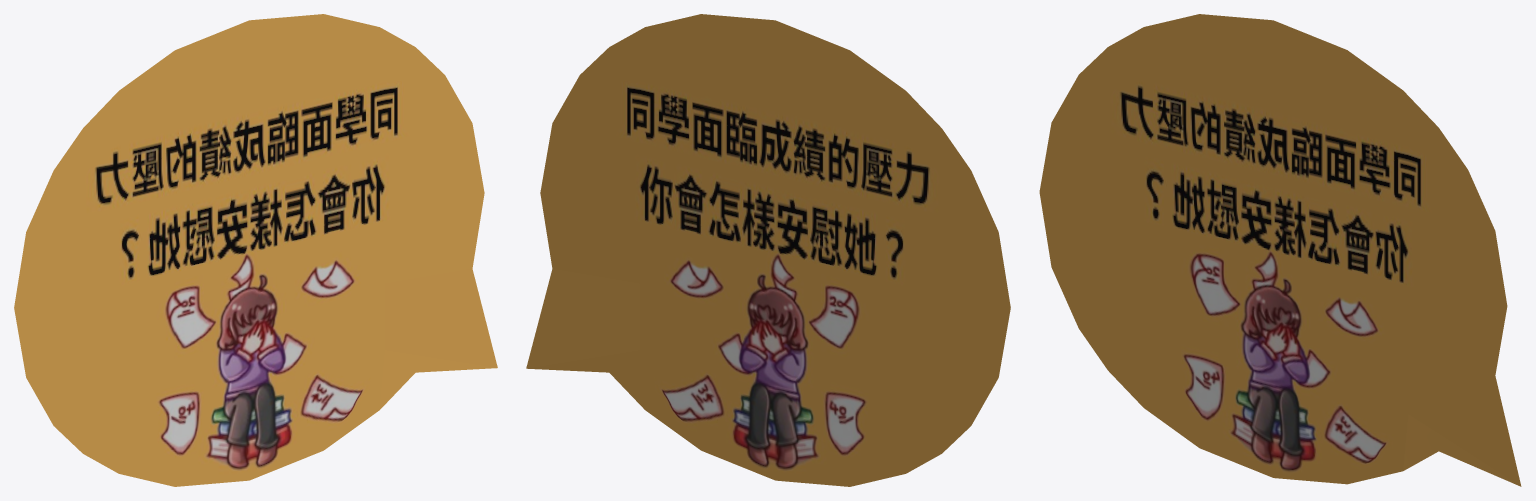
The picture shows the model from 3 angles, left to right: view 1: azimuth 30°, elevation 25°; view 2: azimuth 150°, elevation 25°; view 3: azimuth 330°, elevation 25°; orthographic projection.
Parts seen in each view (by area): view 1: 平面.003; view 2: 平面.003; view 3: 平面.003.
Part boxes in pixels (x1,y1,x2,y2): 平面.003: (14,14,497,486); 平面.003: (526,14,1010,486); 平面.003: (1039,14,1521,486).
Bounding box in the file's own units: 0.00162 × 0.00147 × 2.47e-06.
1 material, 1 textured.
